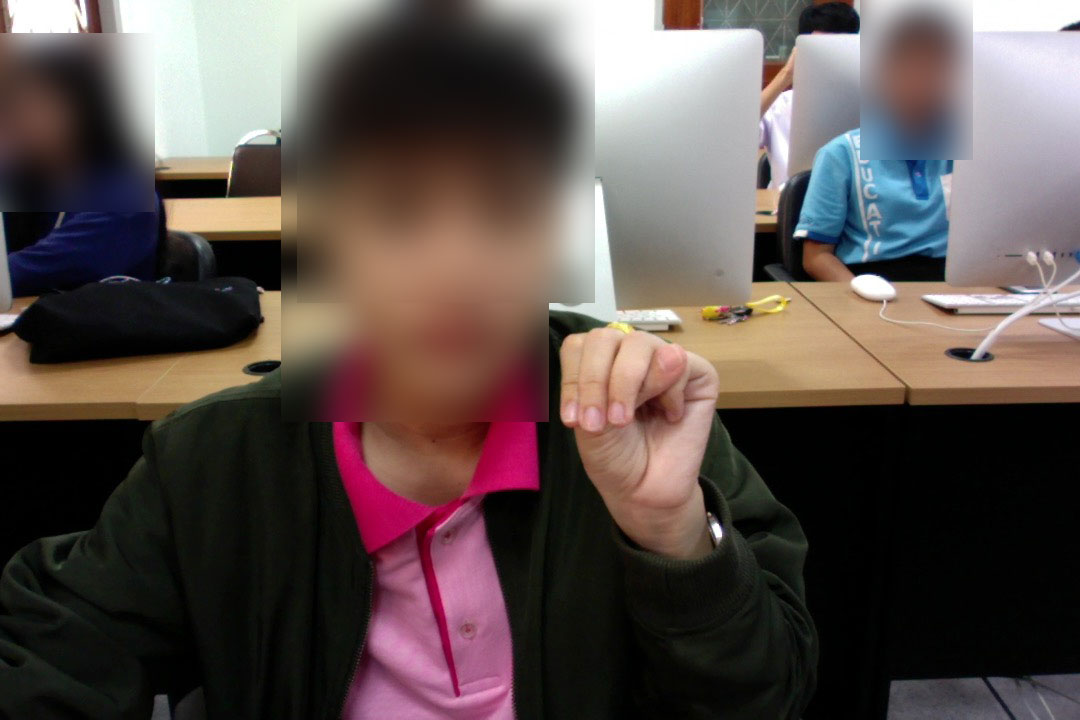mor: (550, 315, 727, 528)
